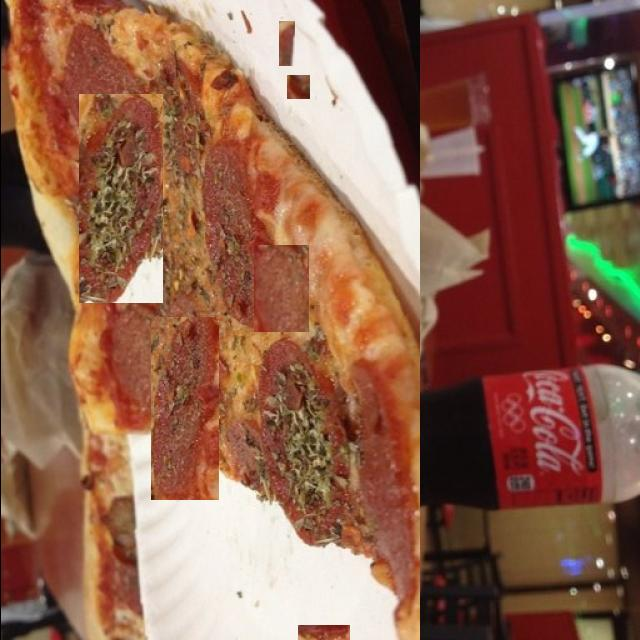pepperoni: (78, 94, 162, 303), (8, 19, 66, 281), (150, 317, 218, 500), (272, 480, 353, 618), (198, 205, 252, 361), (253, 340, 309, 434), (253, 245, 308, 334), (217, 467, 258, 582), (286, 92, 312, 143), (297, 625, 349, 640), (278, 21, 294, 66), (286, 75, 309, 99)
pizza: (0, 0, 419, 640), (276, 0, 342, 245)
